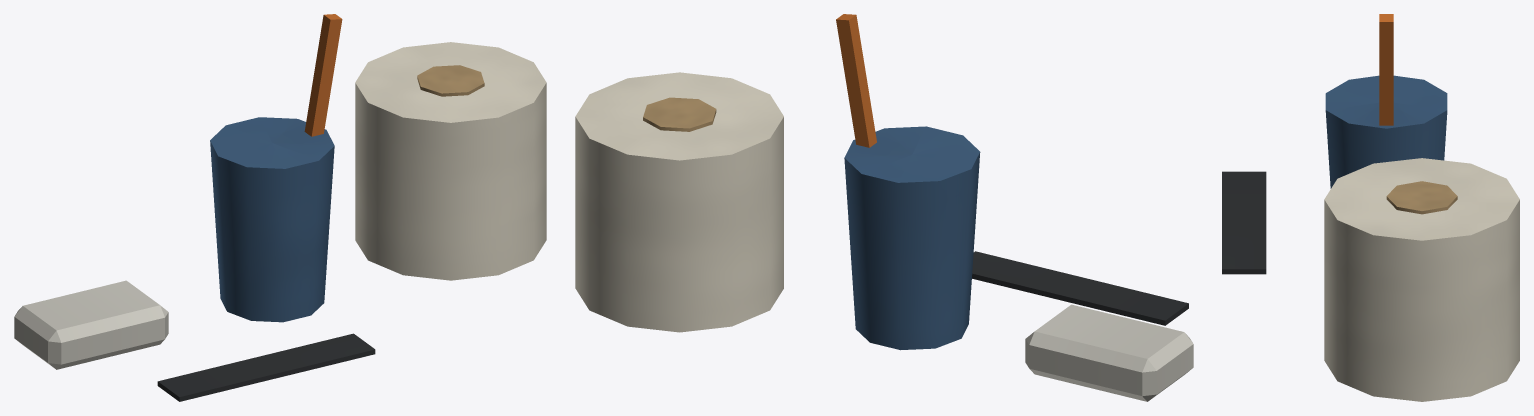
File: toiletries.fbx
3 views of the same model, side by side, from view 1: azimuth 30°, elevation 25°; view 2: azimuth 150°, elevation 25°; view 3: azimuth 270°, elevation 25° (orthographic). The views are drawn at different scales.
Visible parts, largest first — view 1: toiletries; view 2: toiletries; view 3: toiletries.
Boxes of the visible parts, left/top/right/bottom form: toiletries: left=14, top=14, right=546, bottom=401; toiletries: left=575, top=14, right=1193, bottom=401; toiletries: left=1222, top=14, right=1519, bottom=401.
Bounding box in the file's own units: 0.345 × 0.1713 × 0.1675.
1 material, 1 textured.
